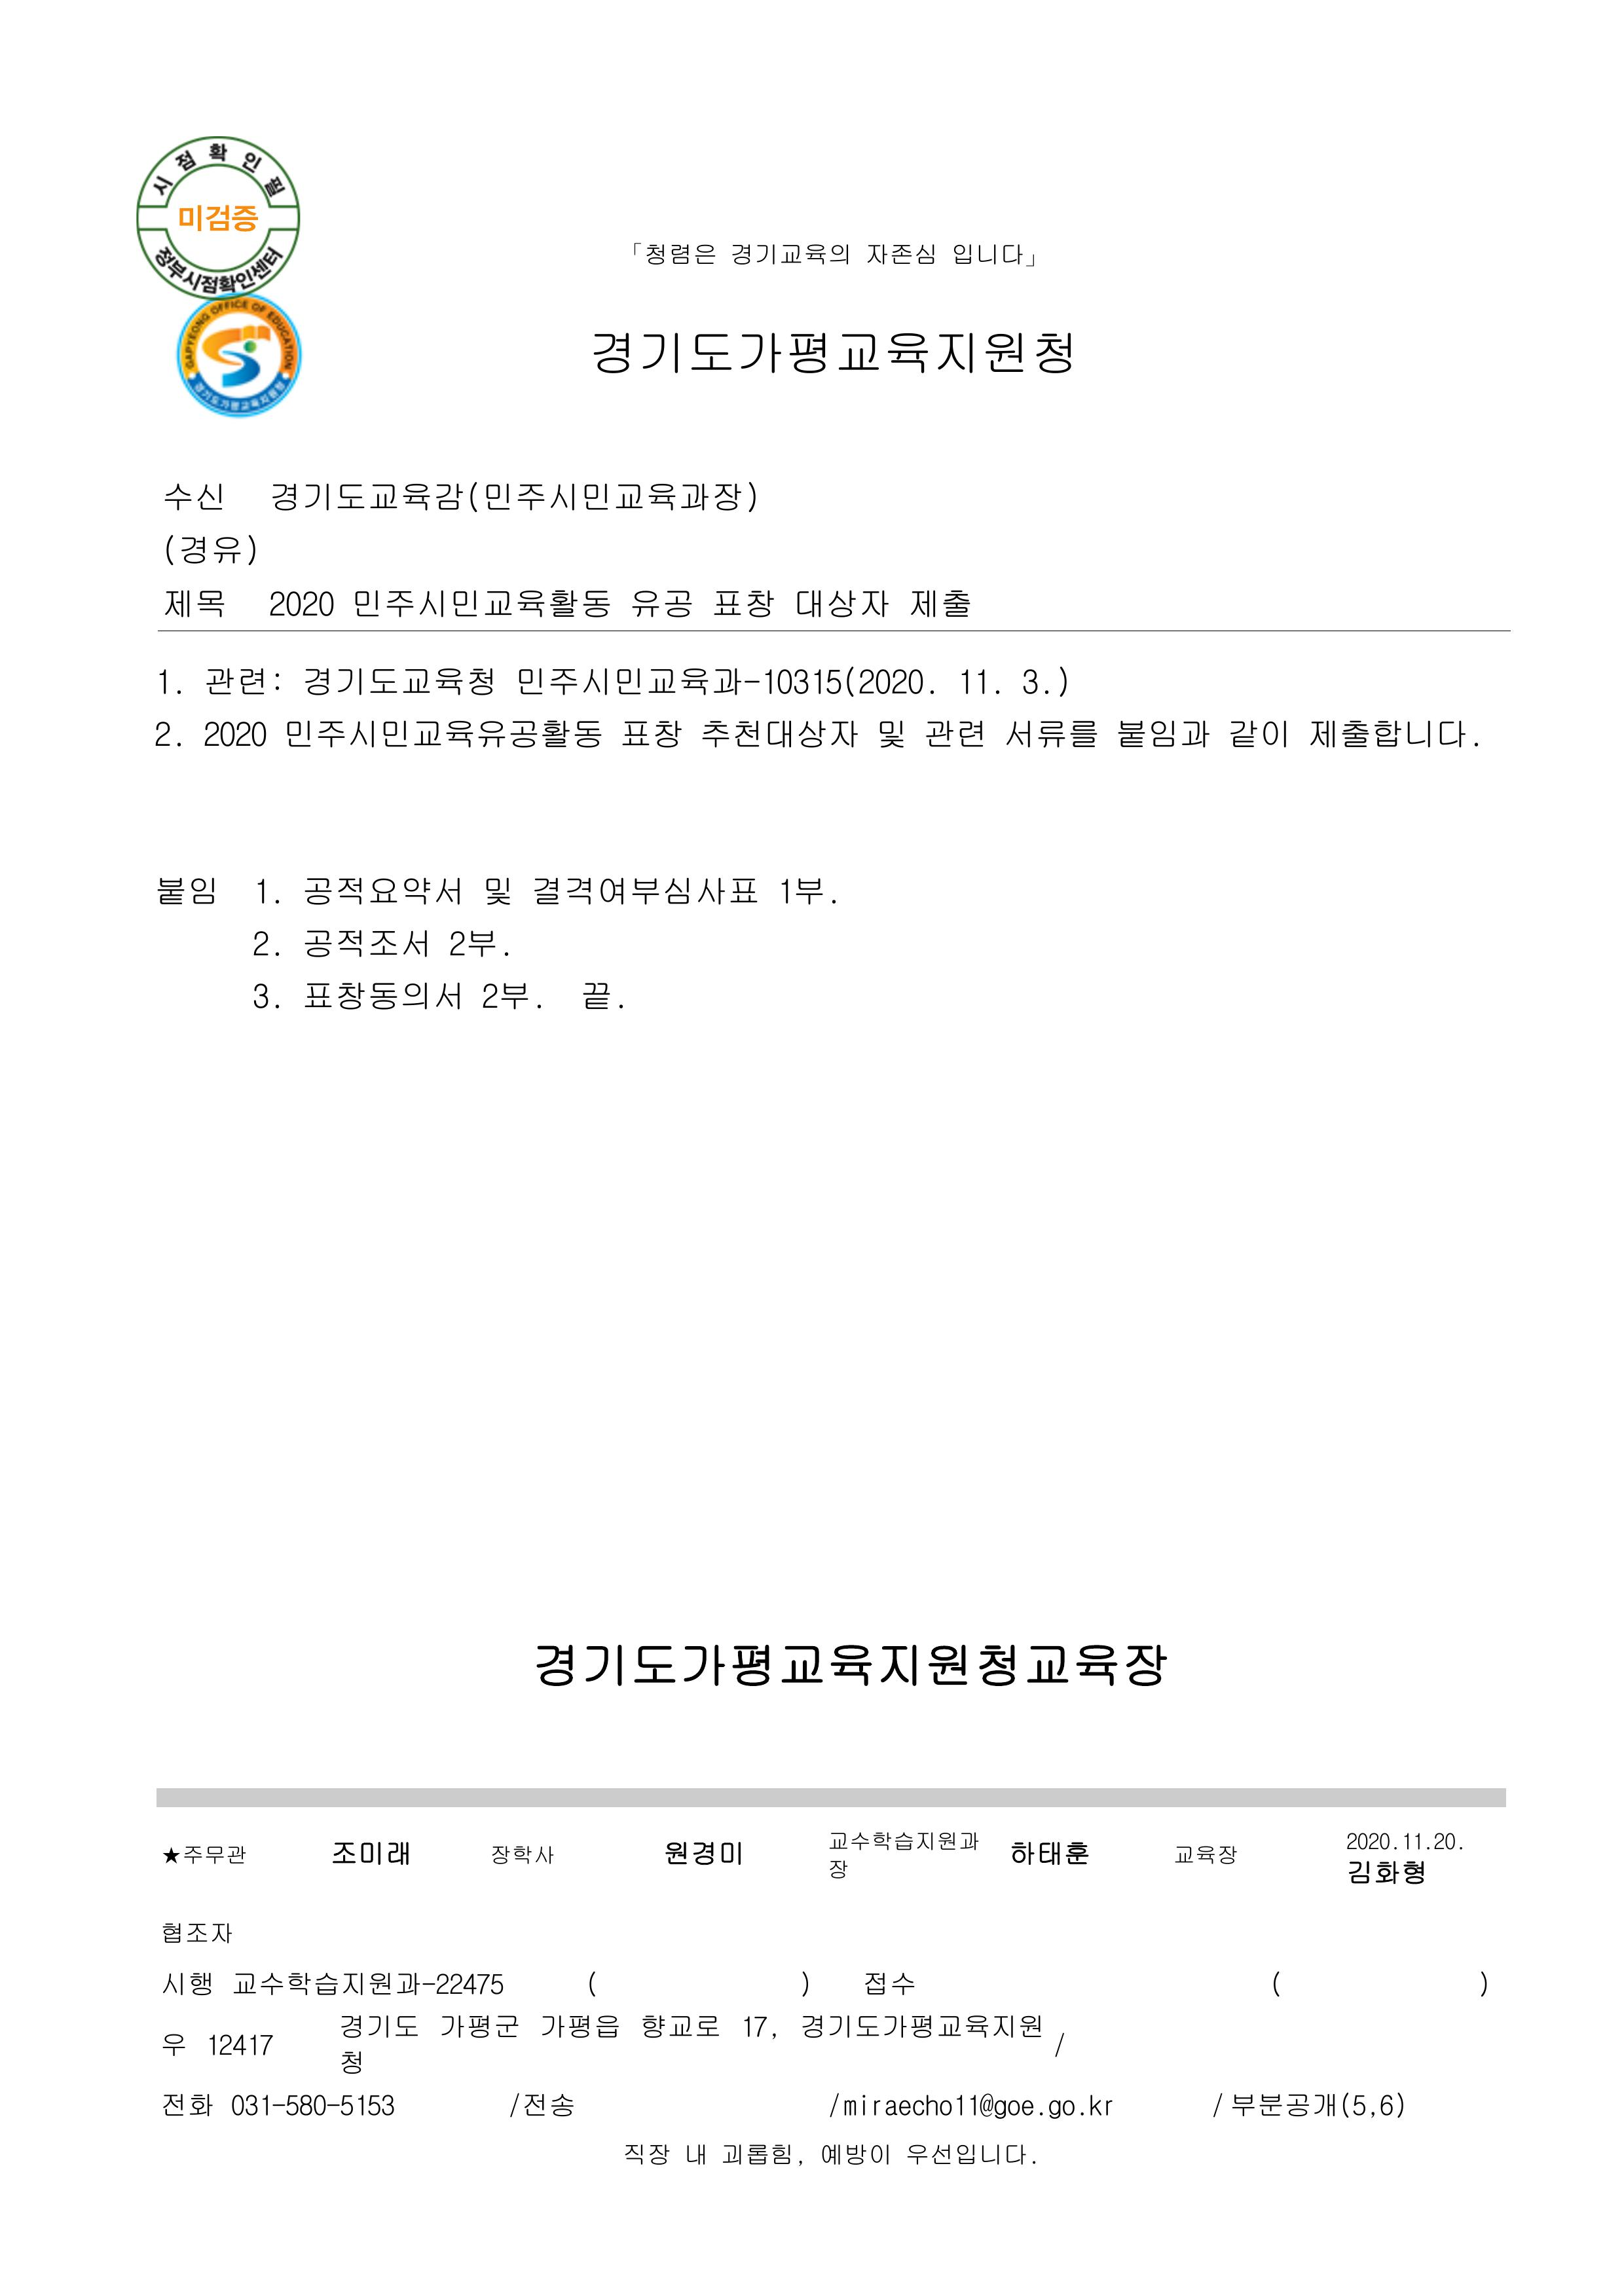t: (534, 1642, 1169, 1692), (591, 326, 1075, 380), (268, 477, 760, 516), (513, 663, 932, 699), (283, 713, 602, 753), (351, 584, 613, 623), (796, 2008, 1047, 2044), (527, 871, 760, 907), (1208, 2087, 1405, 2123), (301, 663, 494, 699), (1305, 713, 1473, 753), (695, 713, 860, 753), (301, 975, 466, 1014), (301, 871, 462, 911), (229, 1968, 394, 2000), (301, 925, 430, 961), (904, 2137, 1033, 2169), (828, 1829, 982, 1854), (1004, 713, 1097, 753), (1111, 717, 1212, 753), (792, 584, 893, 620), (828, 2094, 968, 2119), (390, 1968, 506, 1997), (434, 2008, 520, 2044), (534, 2008, 620, 2044), (175, 200, 258, 236), (161, 530, 244, 566), (638, 2008, 720, 2044), (731, 244, 846, 268), (204, 663, 283, 699), (616, 713, 685, 753), (1344, 1857, 1427, 1890), (329, 1836, 412, 1868), (663, 1836, 746, 1868), (1007, 1836, 1090, 1868), (337, 2011, 419, 2044), (1226, 713, 1291, 753), (717, 2137, 796, 2169), (919, 717, 985, 754), (627, 584, 695, 620), (502, 2087, 577, 2119), (965, 2090, 1036, 2123), (161, 584, 226, 620), (154, 871, 219, 907), (710, 584, 774, 620), (904, 584, 968, 620), (265, 588, 337, 620), (164, 1843, 251, 1868), (200, 717, 268, 749), (642, 240, 717, 268), (157, 1918, 232, 1947), (821, 2140, 896, 2169), (477, 979, 538, 1014), (953, 244, 1040, 268), (445, 925, 502, 961), (1014, 663, 1072, 699), (164, 480, 226, 513), (953, 663, 1007, 699), (864, 244, 939, 268), (774, 875, 832, 907), (333, 2090, 397, 2119), (161, 1968, 215, 2000), (208, 2033, 276, 2058), (1172, 1843, 1237, 1868), (491, 1843, 555, 1868), (860, 1968, 914, 1997), (283, 2094, 341, 2119), (577, 979, 616, 1014), (226, 2090, 272, 2119), (871, 717, 907, 753), (623, 2144, 674, 2169), (480, 875, 513, 911), (1344, 1832, 1395, 1854), (1047, 2097, 1090, 2123), (742, 2015, 781, 2040), (254, 928, 280, 961), (685, 2144, 713, 2169), (1086, 2094, 1115, 2119), (258, 878, 280, 907), (254, 982, 276, 1011), (190, 2094, 215, 2119), (1431, 1832, 1459, 1854), (1402, 1832, 1427, 1854), (164, 2094, 186, 2119), (157, 720, 175, 749), (157, 670, 175, 695)
